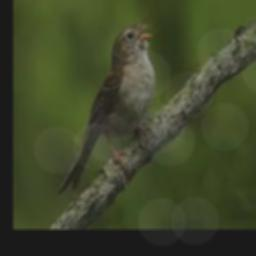Sparrow: (59, 20, 156, 193)
